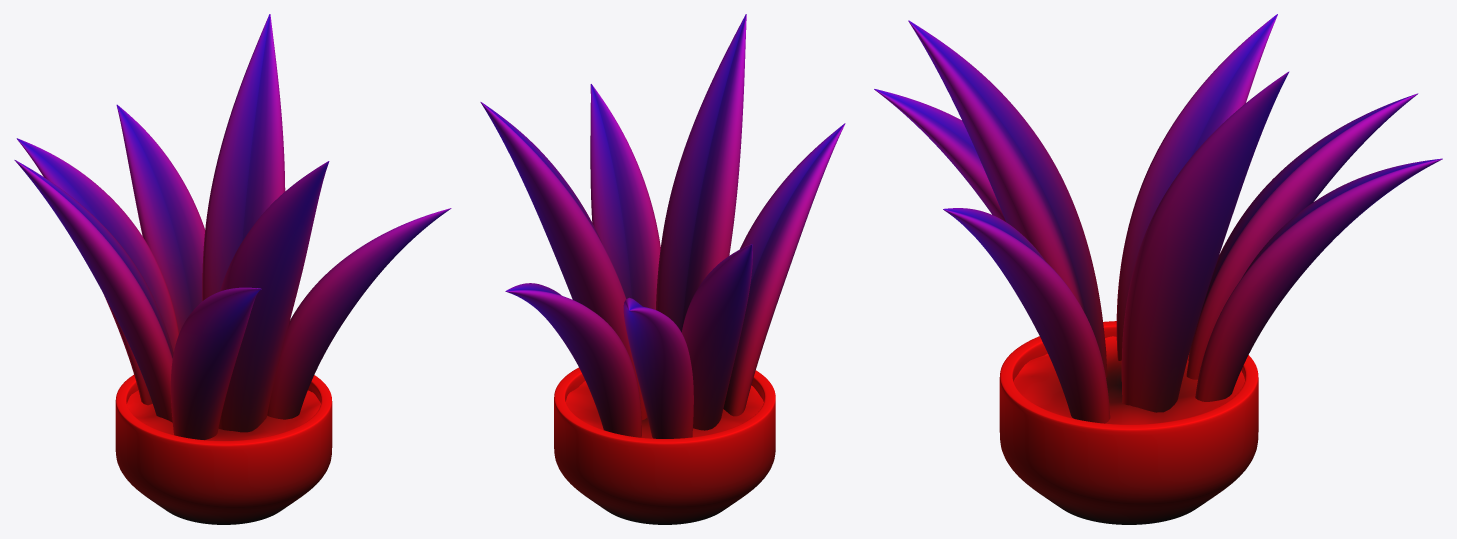
The model's file is Stylized_potted_plant_3.fbx.
The picture shows the model from 3 angles, left to right: view 1: azimuth 30°, elevation 25°; view 2: azimuth 150°, elevation 25°; view 3: azimuth 270°, elevation 25°; orthographic projection. The views are drawn at different scales.
Visible parts, largest first — view 1: Stylized_potted_plant; view 2: Stylized_potted_plant; view 3: Stylized_potted_plant.
Part boxes in pixels (box(x1,y1,x2,y2)): Stylized_potted_plant: box(14, 14, 451, 524); Stylized_potted_plant: box(480, 14, 845, 524); Stylized_potted_plant: box(874, 14, 1442, 524).
Bounding box in the file's own units: 127 × 166 × 175.
